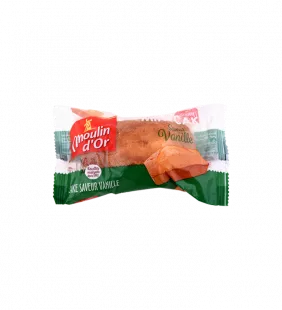MOULIN D'OR: (43, 92, 237, 212)
